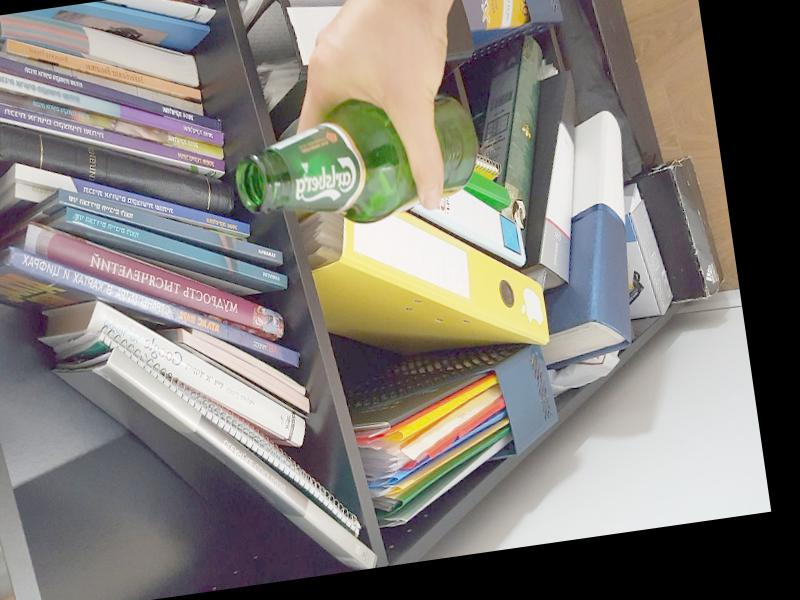Beer: (228, 86, 488, 238)
